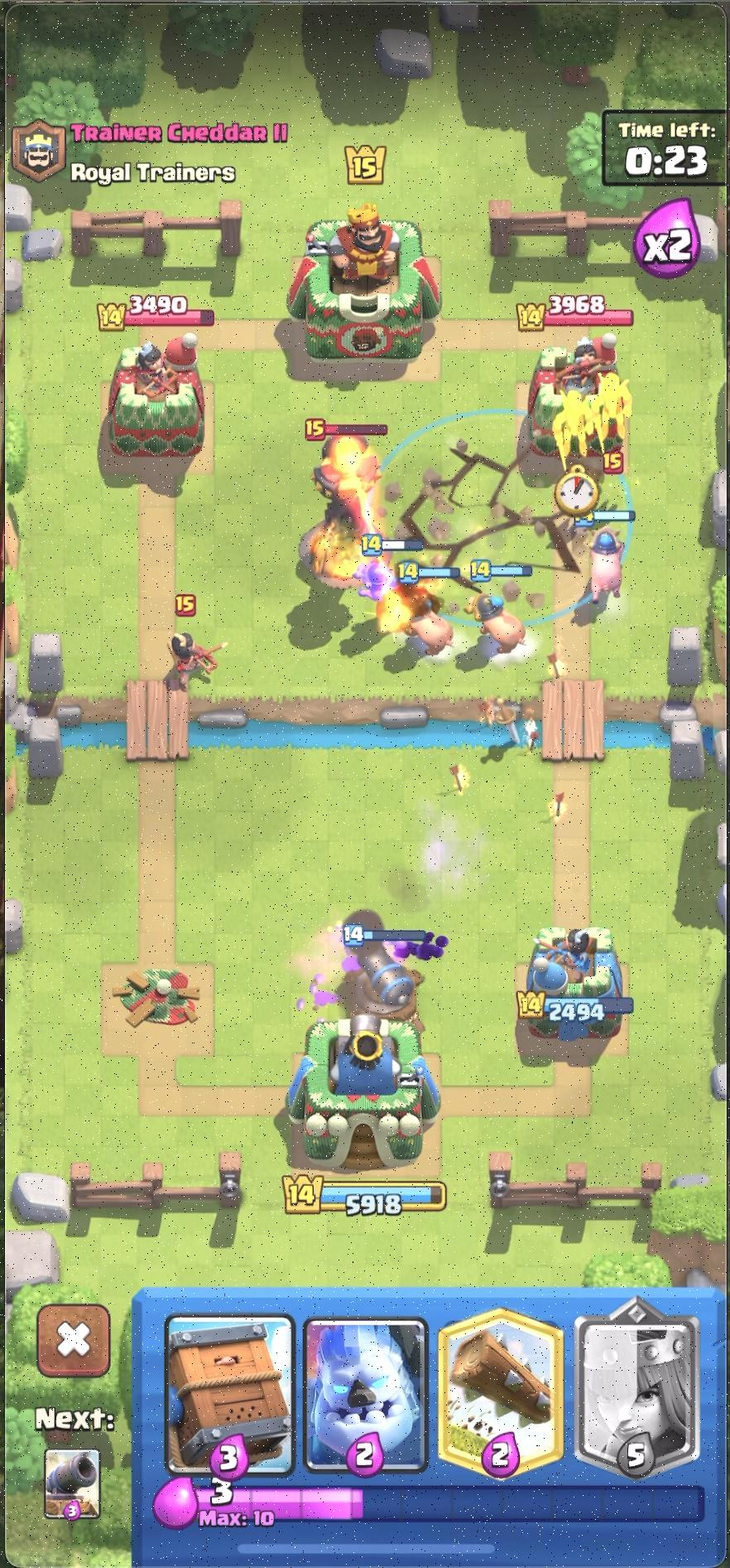card_archerqueen: (571, 1291, 707, 1481)
card_cannon: (43, 1445, 103, 1524)
card_icegolem: (300, 1311, 432, 1477)
card_log: (434, 1304, 567, 1483)
card_royaldelivery: (163, 1307, 297, 1478)
